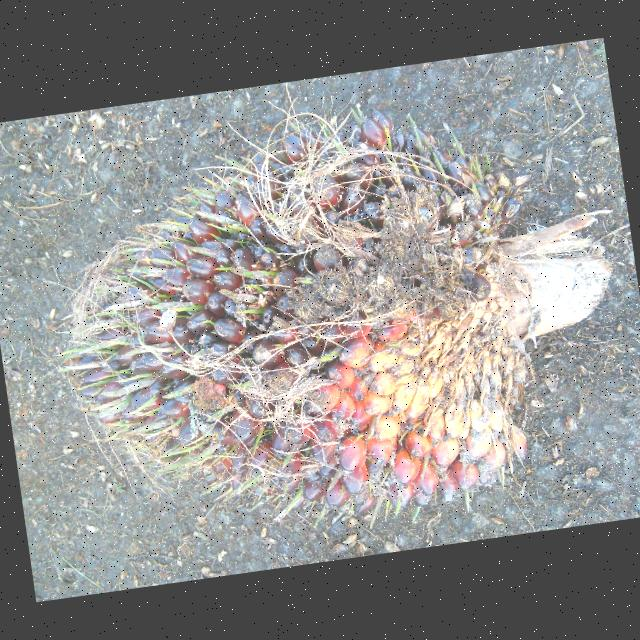Unripe: (78, 129, 528, 504)
